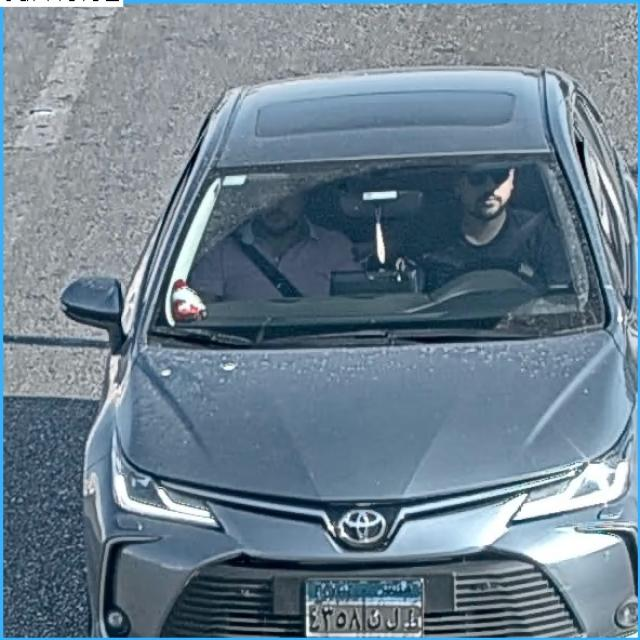windshield: (160, 160, 609, 333)
